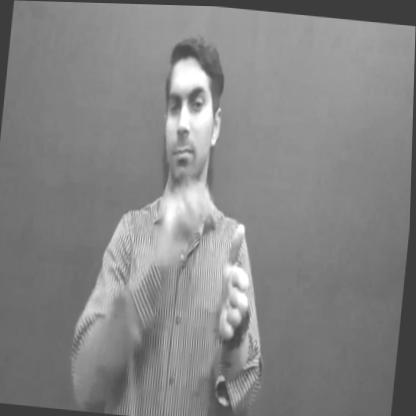Expensive: (97, 154, 265, 385)
